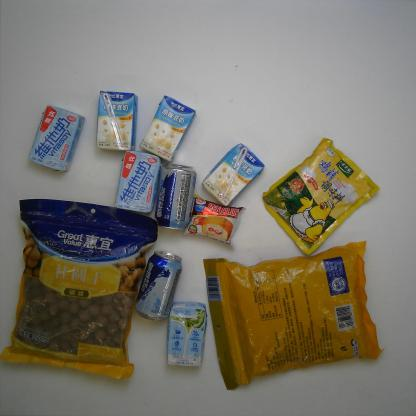Alcohol: (134, 250, 183, 322), (153, 162, 197, 231)
Dessert: (182, 193, 246, 248)
Dried Food: (0, 198, 158, 381), (202, 240, 385, 393)
Milk: (202, 143, 265, 207), (139, 95, 197, 163), (28, 104, 85, 172), (114, 150, 162, 213), (166, 301, 209, 368), (96, 91, 138, 152)
Seasoner: (262, 137, 380, 257)
